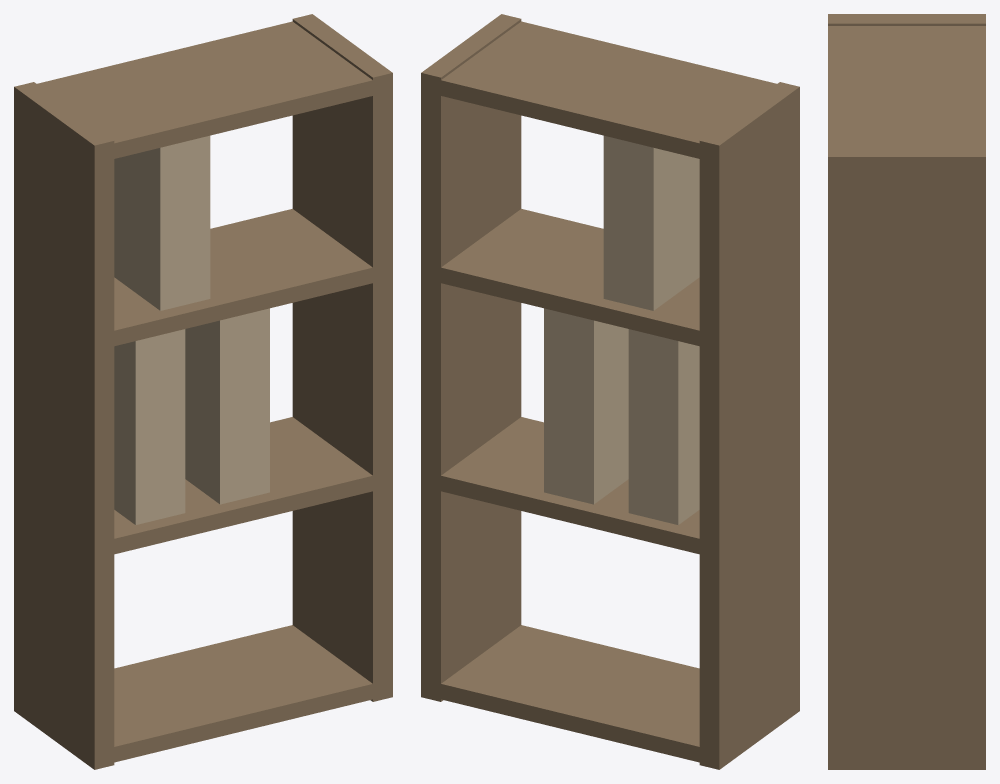
The model's file is raum_regal.glb.
The picture shows the model from 3 angles, left to right: view 1: azimuth 30°, elevation 25°; view 2: azimuth 150°, elevation 25°; view 3: azimuth 270°, elevation 25°; orthographic projection.
Visible parts, largest first — view 1: seite_l, seite_r, boden_3, boden_0, boden_2, ordner_1, ordner_2, boden_1, ordner_0; view 2: seite_l, seite_r, boden_3, boden_0, boden_2, ordner_1, ordner_2, ordner_0, boden_1; view 3: seite_r, boden_3, boden_2, boden_1, boden_0, seite_l.
Boxes of the visible parts, box(x1,y1,x2,y2) form: seite_l: box(14, 82, 114, 769); seite_r: box(292, 14, 392, 701); boden_3: box(14, 21, 392, 163); boden_0: box(14, 625, 392, 767); boden_2: box(14, 209, 392, 350); ordner_1: box(185, 308, 269, 504); ordner_2: box(114, 135, 210, 310); boden_1: box(14, 417, 392, 558); ordner_0: box(114, 329, 185, 524); seite_l: box(699, 82, 799, 769); seite_r: box(421, 14, 521, 701); boden_3: box(421, 21, 799, 163); boden_0: box(421, 625, 798, 767); boden_2: box(421, 209, 799, 350); ordner_1: box(544, 308, 628, 504); ordner_2: box(603, 135, 699, 310); ordner_0: box(628, 329, 699, 524); boden_1: box(421, 417, 798, 558); seite_r: box(828, 147, 985, 769); boden_3: box(828, 26, 985, 174); boden_2: box(828, 343, 985, 358); boden_1: box(828, 547, 985, 562); boden_0: box(828, 752, 985, 764); seite_l: box(828, 14, 985, 25).
Bounding box in the file's own units: 0.6 × 1.2 × 0.28.
